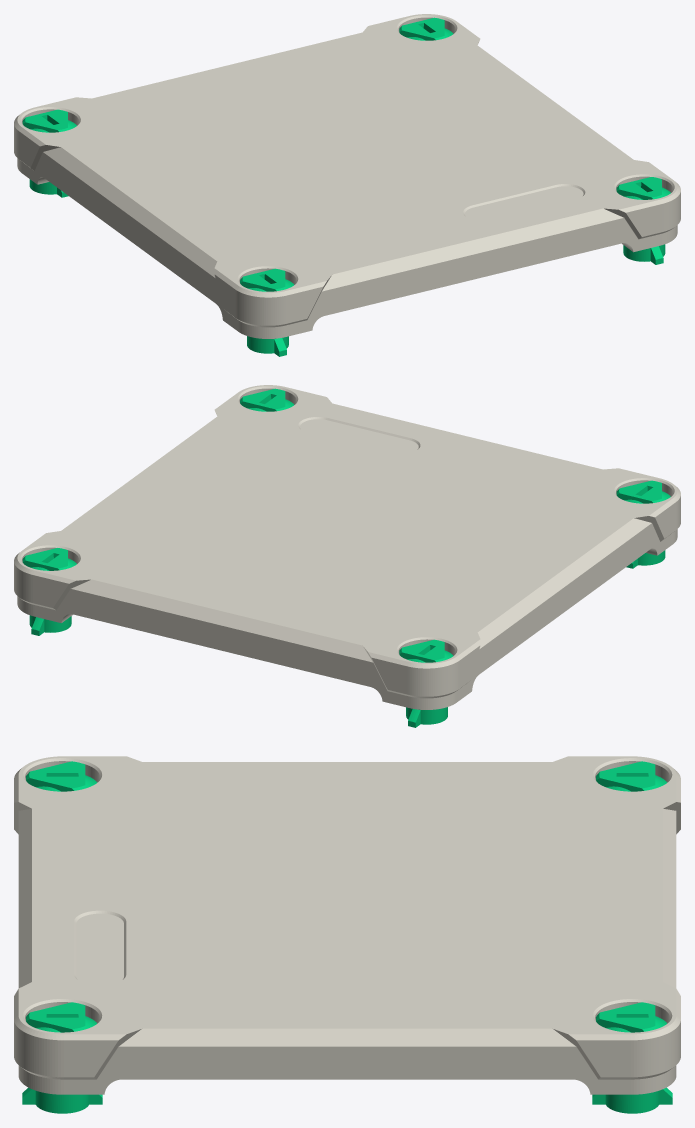
Rendered from lid.glb.
3 views of the same model, one above another, from view 1: azimuth 30°, elevation 25°; view 2: azimuth 150°, elevation 25°; view 3: azimuth 270°, elevation 25° (orthographic). The views are drawn at different scales.
Visible parts, largest first — view 1: tapa_cuerpo, tapa_cierres; view 2: tapa_cuerpo, tapa_cierres; view 3: tapa_cuerpo, tapa_cierres.
Boxes of the visible parts, x1=… form: tapa_cuerpo: x1=14, y1=14, x2=680, y2=338; tapa_cierres: x1=22, y1=17, x2=670, y2=356; tapa_cuerpo: x1=14, y1=385, x2=680, y2=709; tapa_cierres: x1=22, y1=388, x2=670, y2=727; tapa_cuerpo: x1=14, y1=756, x2=680, y2=1094; tapa_cierres: x1=22, y1=761, x2=672, y2=1113.
Bounding box in the file's own units: 0.147 × 0.021 × 0.147.
